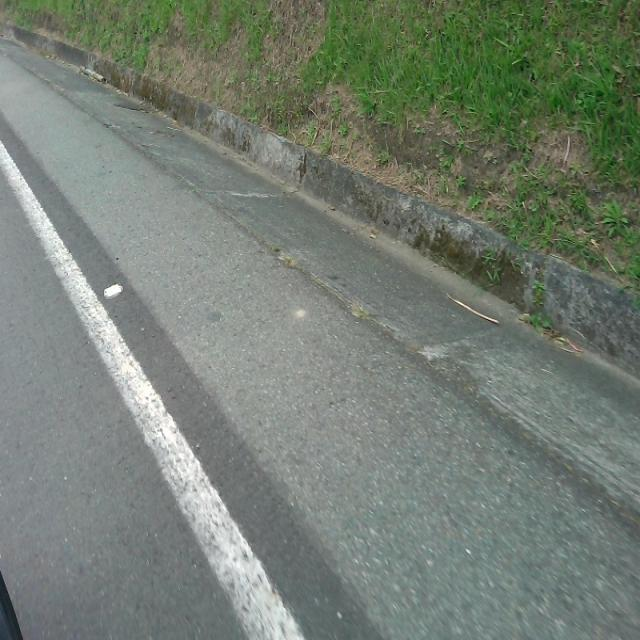DITCH: (1, 31, 638, 638)
